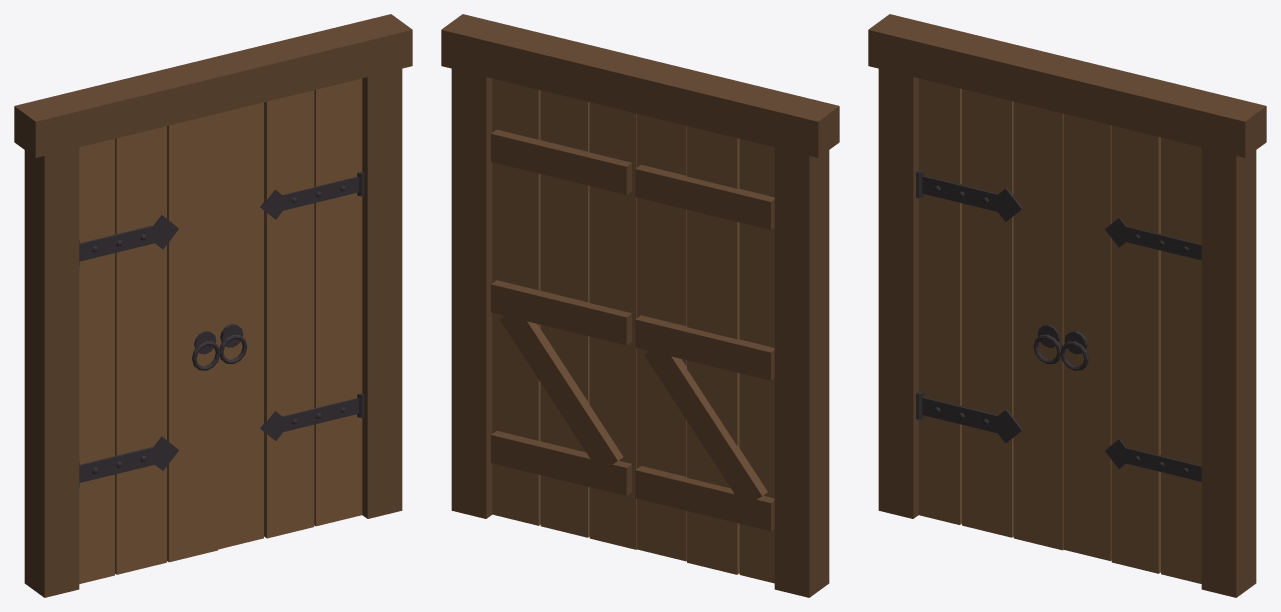
File: SM_Door_RusticDouble_02.glb
3 renders of one model, left to right at view 1: azimuth 30°, elevation 25°; view 2: azimuth 150°, elevation 25°; view 3: azimuth 330°, elevation 25°, orthographic.
Parts seen in each view (by area): view 1: SM_Door_RusticDouble_02_Frame, SM_Door_RusticDouble_02_L_Plank3, SM_Door_RusticDouble_02_Lintel, SM_Door_RusticDouble_02_L_Plank2, SM_Door_RusticDouble_02_R_Plank2, SM_Door_RusticDouble_02_R_Plank3, SM_Door_RusticDouble_02_R_Plank1, SM_Door_RusticDouble_02_JambR, SM_Door_RusticDouble_02_L_Plank1, SM_Door_RusticDouble_02_L_Strap_1.65, SM_Door_RusticDouble_02_L_Strap_0.55, SM_Door_RusticDouble_02_R_StrapR_0.55 (+2 smaller); view 2: SM_Door_RusticDouble_02_Frame, SM_Door_RusticDouble_02_Lintel, SM_Door_RusticDouble_02_JambR, SM_Door_RusticDouble_02_R_Plank1, SM_Door_RusticDouble_02_L_Plank3, SM_Door_RusticDouble_02_L_Plank2, SM_Door_RusticDouble_02_R_Plank3, SM_Door_RusticDouble_02_R_Plank2, SM_Door_RusticDouble_02_L_Plank1, SM_Door_RusticDouble_02_R_Brace, SM_Door_RusticDouble_02_L_Brace, SM_Door_RusticDouble_02_R_Ledge3 (+5 smaller); view 3: SM_Door_RusticDouble_02_JambR, SM_Door_RusticDouble_02_L_Plank3, SM_Door_RusticDouble_02_Lintel, SM_Door_RusticDouble_02_R_Plank1, SM_Door_RusticDouble_02_L_Plank2, SM_Door_RusticDouble_02_R_Plank2, SM_Door_RusticDouble_02_Frame, SM_Door_RusticDouble_02_L_Plank1, SM_Door_RusticDouble_02_R_Plank3, SM_Door_RusticDouble_02_L_Strap_1.65, SM_Door_RusticDouble_02_L_Strap_0.55, SM_Door_RusticDouble_02_R_StrapR_1.65 (+3 smaller).
Boxes of the visible parts, bbox=[...] form: SM_Door_RusticDouble_02_Frame: bbox=[24, 96, 79, 597]; SM_Door_RusticDouble_02_L_Plank3: bbox=[167, 113, 218, 562]; SM_Door_RusticDouble_02_Lintel: bbox=[14, 14, 412, 157]; SM_Door_RusticDouble_02_L_Plank2: bbox=[115, 126, 166, 574]; SM_Door_RusticDouble_02_R_Plank2: bbox=[264, 90, 314, 538]; SM_Door_RusticDouble_02_R_Plank3: bbox=[314, 78, 362, 526]; SM_Door_RusticDouble_02_R_Plank1: bbox=[218, 102, 263, 549]; SM_Door_RusticDouble_02_JambR: bbox=[348, 17, 402, 518]; SM_Door_RusticDouble_02_L_Plank1: bbox=[79, 138, 114, 583]; SM_Door_RusticDouble_02_L_Strap_1.65: bbox=[79, 225, 155, 261]; SM_Door_RusticDouble_02_L_Strap_0.55: bbox=[79, 446, 155, 482]; SM_Door_RusticDouble_02_R_StrapR_0.55: bbox=[282, 398, 358, 432]; SM_Door_RusticDouble_02_Frame: bbox=[774, 96, 829, 597]; SM_Door_RusticDouble_02_Lintel: bbox=[441, 14, 839, 157]; SM_Door_RusticDouble_02_JambR: bbox=[451, 17, 505, 518]; SM_Door_RusticDouble_02_R_Plank1: bbox=[589, 102, 636, 549]; SM_Door_RusticDouble_02_L_Plank3: bbox=[637, 114, 686, 561]; SM_Door_RusticDouble_02_L_Plank2: bbox=[687, 126, 739, 574]; SM_Door_RusticDouble_02_R_Plank3: bbox=[492, 78, 540, 525]; SM_Door_RusticDouble_02_R_Plank2: bbox=[540, 90, 589, 537]; SM_Door_RusticDouble_02_L_Plank1: bbox=[739, 139, 774, 583]; SM_Door_RusticDouble_02_R_Brace: bbox=[499, 308, 623, 471]; SM_Door_RusticDouble_02_L_Brace: bbox=[644, 351, 767, 507]; SM_Door_RusticDouble_02_R_Ledge3: bbox=[491, 129, 631, 194]; SM_Door_RusticDouble_02_JambR: bbox=[1201, 96, 1256, 597]; SM_Door_RusticDouble_02_L_Plank3: bbox=[1013, 101, 1063, 550]; SM_Door_RusticDouble_02_Lintel: bbox=[868, 14, 1266, 157]; SM_Door_RusticDouble_02_R_Plank1: bbox=[1063, 114, 1111, 560]; SM_Door_RusticDouble_02_L_Plank2: bbox=[962, 89, 1013, 537]; SM_Door_RusticDouble_02_R_Plank2: bbox=[1111, 125, 1160, 573]; SM_Door_RusticDouble_02_Frame: bbox=[878, 17, 932, 518]; SM_Door_RusticDouble_02_L_Plank1: bbox=[918, 78, 961, 524]; SM_Door_RusticDouble_02_R_Plank3: bbox=[1161, 137, 1201, 583]; SM_Door_RusticDouble_02_L_Strap_1.65: bbox=[922, 176, 998, 211]; SM_Door_RusticDouble_02_L_Strap_0.55: bbox=[922, 397, 998, 433]; SM_Door_RusticDouble_02_R_StrapR_1.65: bbox=[1125, 226, 1201, 260].
Size of the model in its own units: 1.96 by 2.38 by 0.1944.
